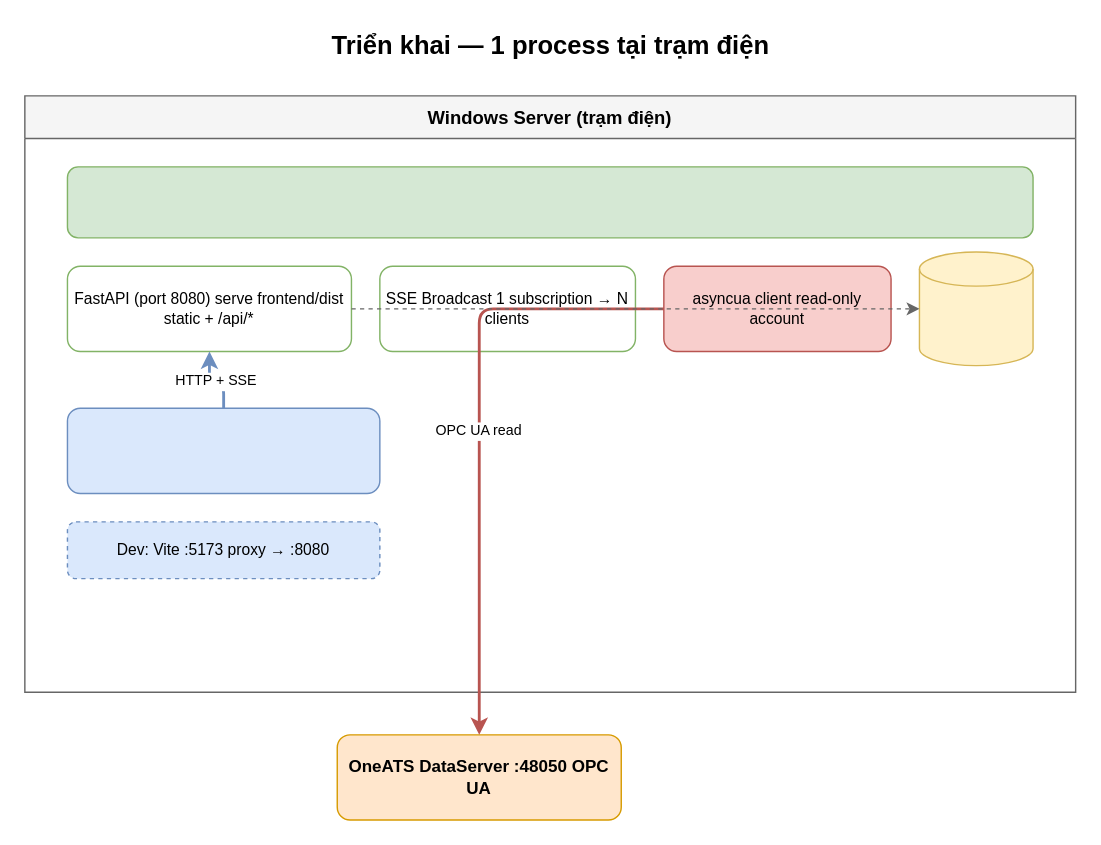
This 1101x845 diagram has some shape labels left out. Here are the shapes that lost their labels. From the top down, the centre of each, then its label:
(549,201): Black Interface Windows Service embedded CPython 3.12 + uv
(975,308): SQLite (WAL) data/blackinterface.sqlite
(223,450): Browser vận hành viên http://127.0.0.1:8080/ops/station
